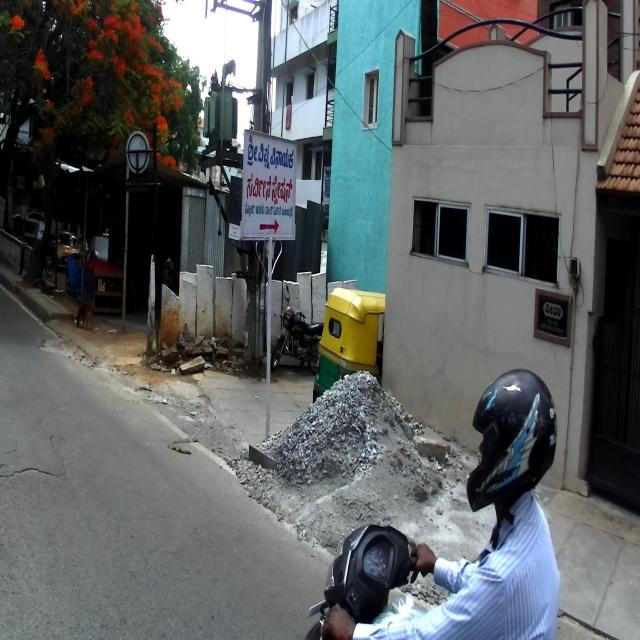autorickshaw: (312, 287, 385, 401)
motorcycle_Hero: (271, 283, 325, 374)
scooter: (305, 519, 418, 638)
